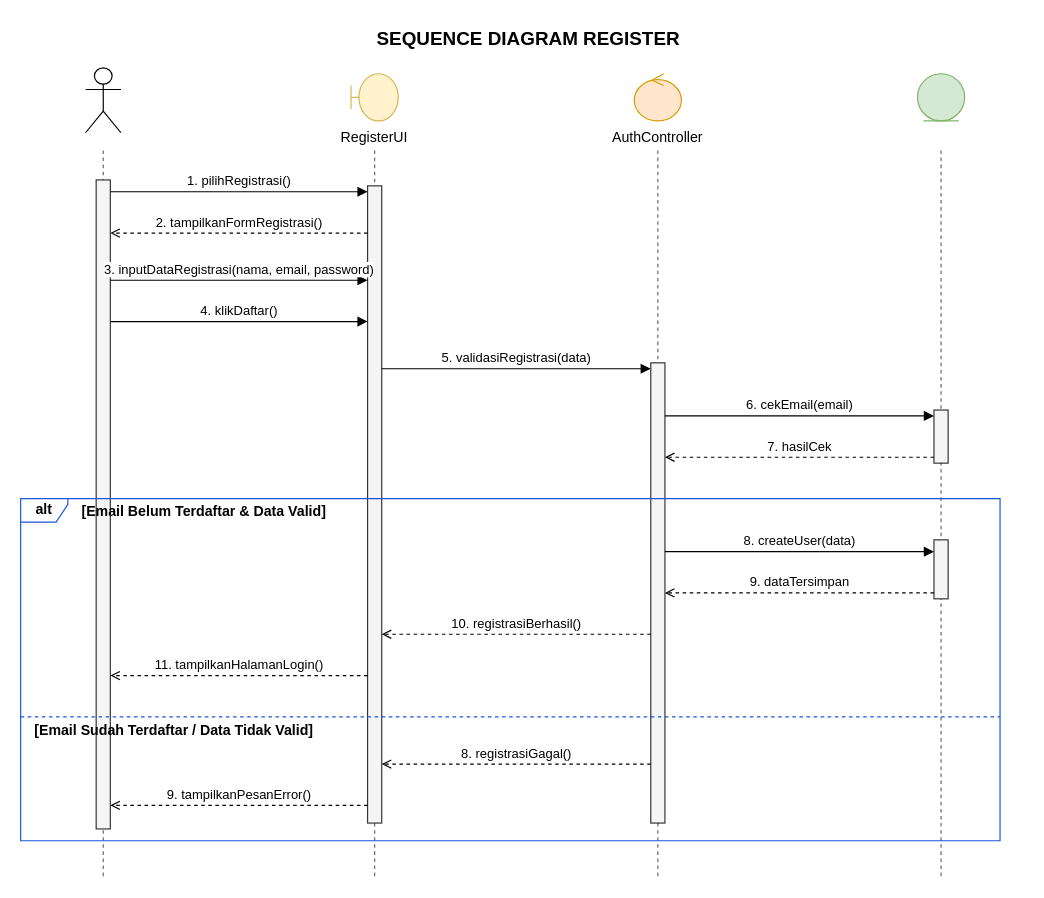
Image size: 1044x898. Some labels were removed from this diagram. Each missing label, with the centre of its shape:
"Mahasiswa" goes at point (102, 100).
"User" goes at point (940, 97).
